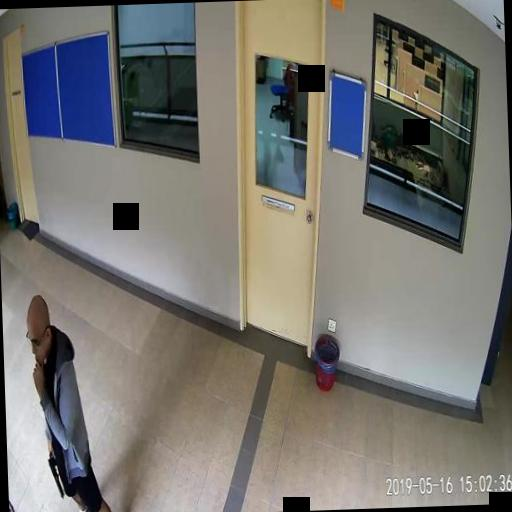Handgun: (44, 450, 62, 498)
